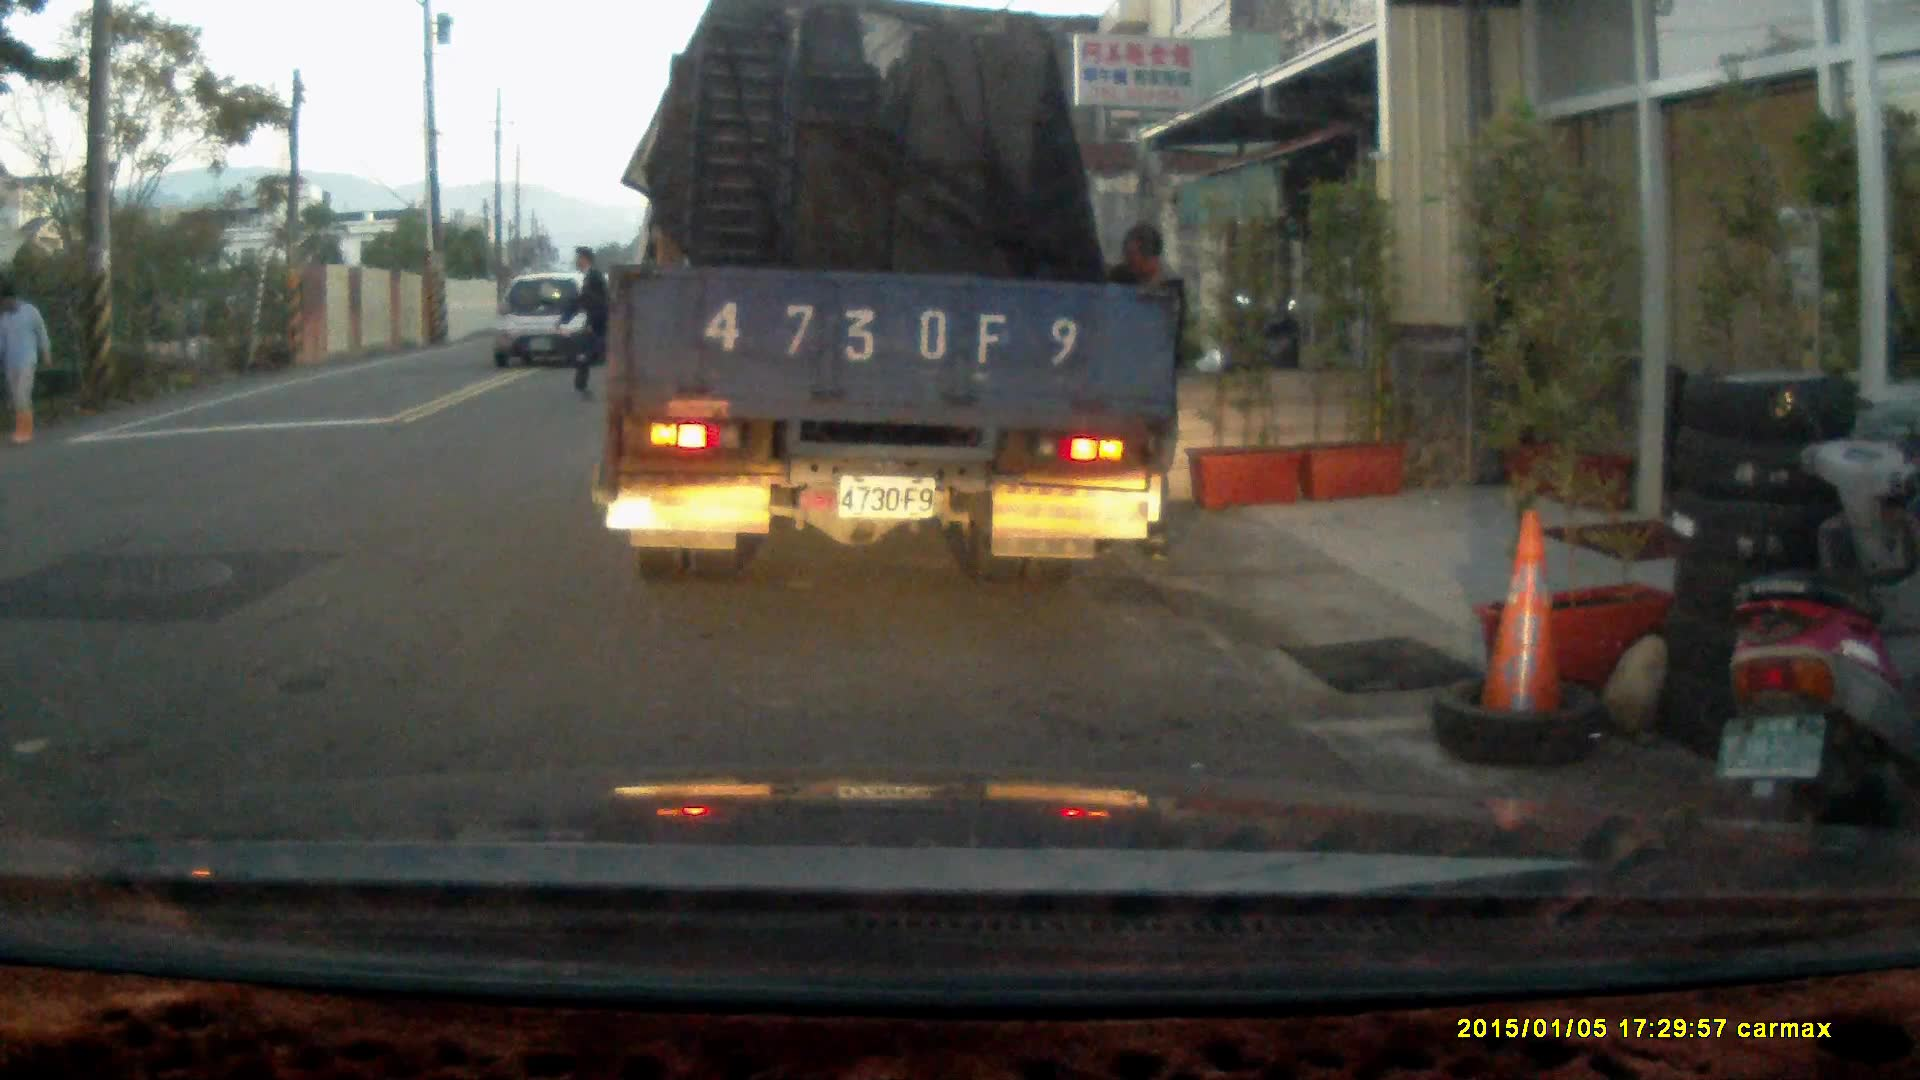pedestrian: (1083, 221, 1188, 565), (552, 242, 625, 409), (0, 284, 52, 449)
vehicle: (604, 23, 1187, 572), (491, 266, 606, 369)
